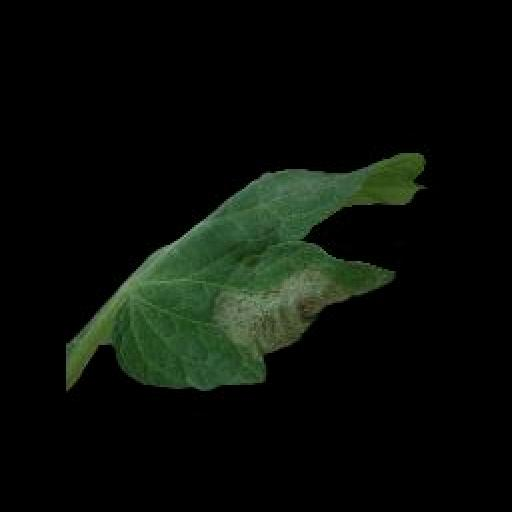disease_tomato: (102, 148, 436, 392)
